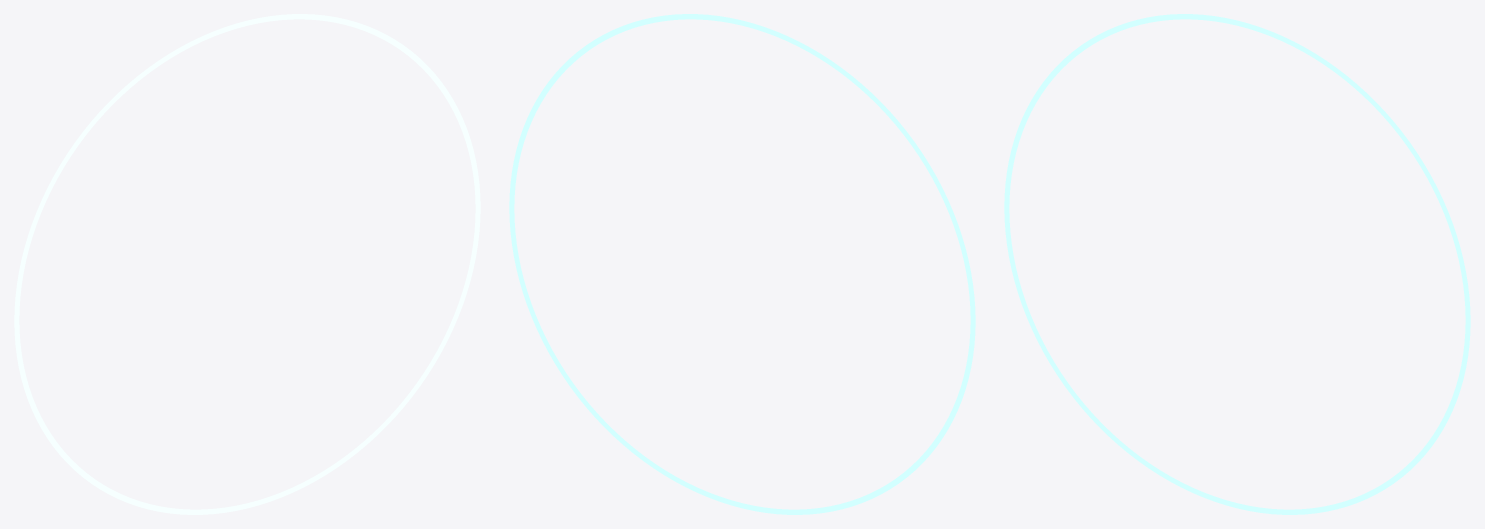
File: ring.glb
The picture shows the model from 3 angles, left to right: view 1: azimuth 30°, elevation 25°; view 2: azimuth 150°, elevation 25°; view 3: azimuth 330°, elevation 25°; orthographic projection.
Visible parts, largest first — view 1: ring; view 2: ring; view 3: ring.
Boxes of the visible parts, <box> form: ring: <box>14,14,480,514</box>; ring: <box>509,14,975,514</box>; ring: <box>1004,14,1470,514</box>.
Bounding box in the file's own units: 1.11 × 1.11 × 0.
